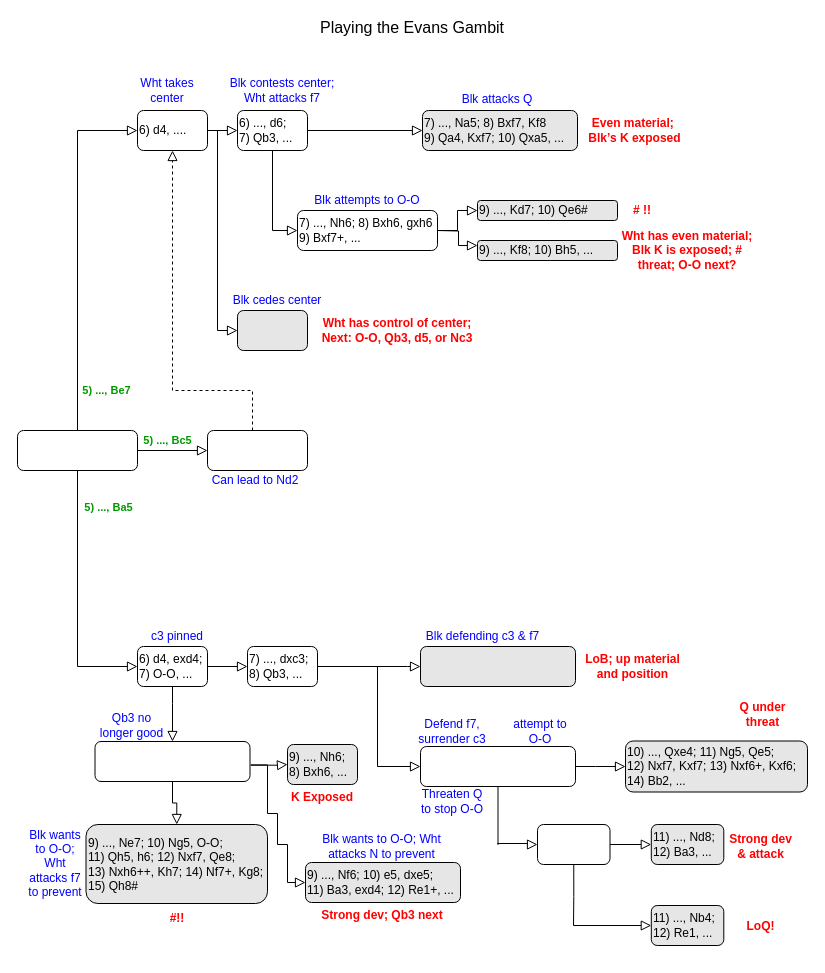
The diagram is 825 pixels wide and 973 high, and some of its shapes have lost their labels. Each missing label, with the box of its shape:
10) ..., Nxd5; 11) exd5, ...: (536, 824, 610, 864)
6) ..., exd4; 7) cxd4, ...: (236, 310, 308, 350)
7) ..., Bb6; 8) cxd4, d6; 9) Nc3, ...: (94, 740, 250, 782)
8) ..., Qe7; 9) Nxc3, Nf6; 10) Nd5, ...;: (420, 746, 576, 786)
8) ..., Qf6; 9) e5, Nxe5 10) Re1, d6; 11) Qa4, ...: (420, 646, 576, 686)
Evans Accepted: 5) c3, ...: (16, 430, 138, 470)
Often similar to Be7 but w/ tempo: (206, 430, 308, 470)
